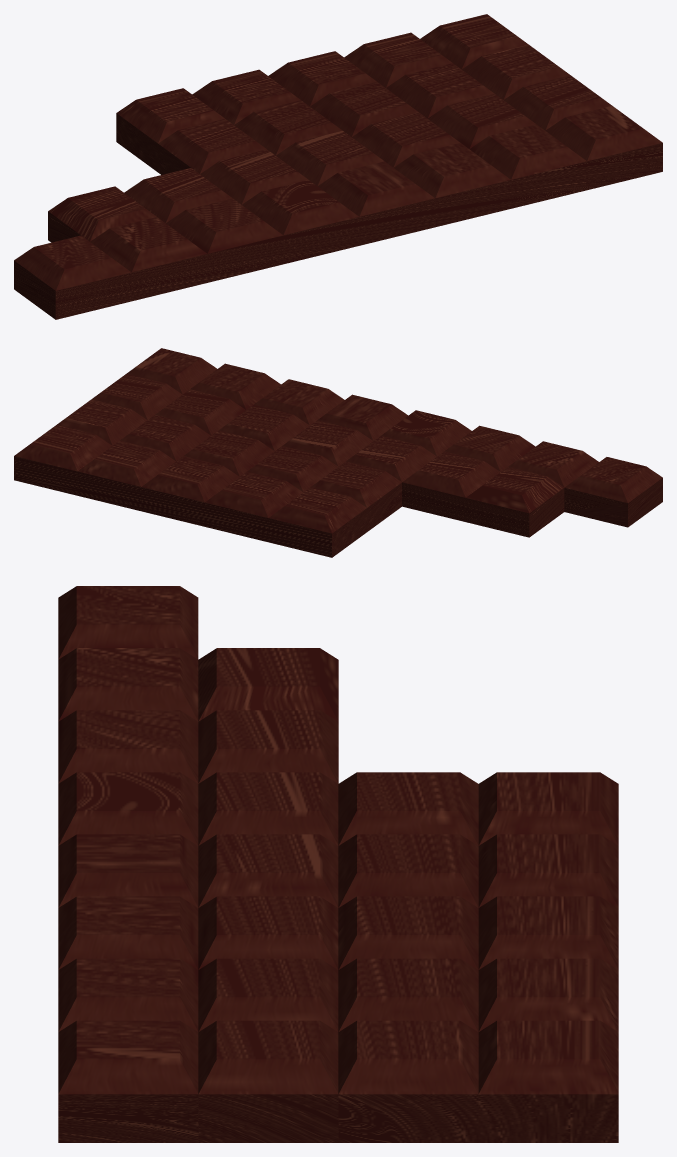
The model's file is GameJamChocolate.fbx.
The picture shows the model from 3 angles, top to bottom: view 1: azimuth 30°, elevation 25°; view 2: azimuth 150°, elevation 25°; view 3: azimuth 270°, elevation 25°; orthographic projection. The views are drawn at different scales.
Parts seen in each view (by area): view 1: Cube; view 2: Cube; view 3: Cube.
Boxes of the visible parts, x1=… form: Cube: x1=14, y1=14, x2=662, y2=319; Cube: x1=14, y1=348, x2=662, y2=557; Cube: x1=58, y1=586, x2=618, y2=1142.
Bounding box in the file's own units: 420 × 28.33 × 200.
1 material, 1 textured.
